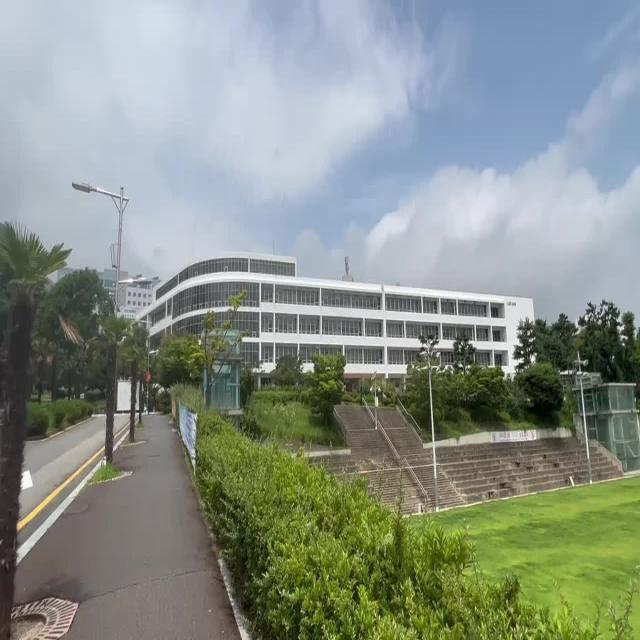building: (173, 247, 510, 341)
